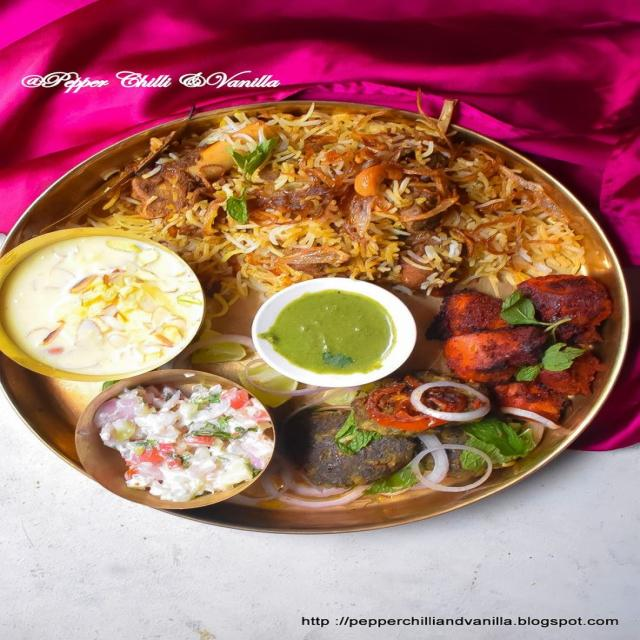non veg meals: (0, 91, 629, 525)
